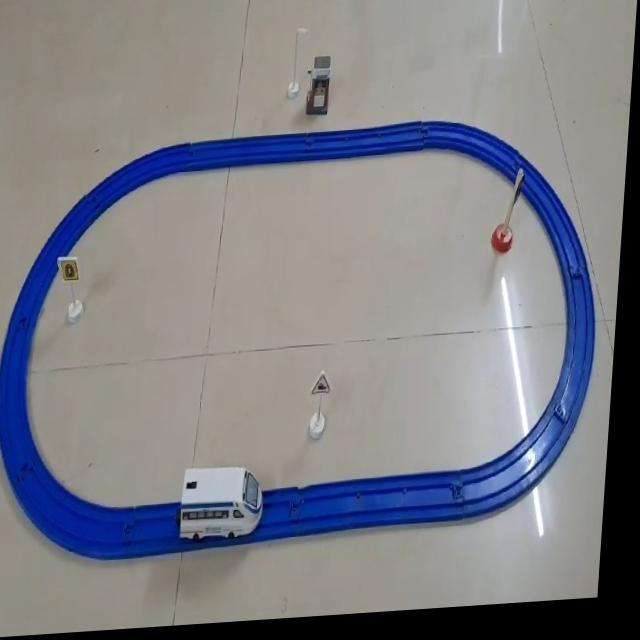bus: (182, 465, 273, 545)
